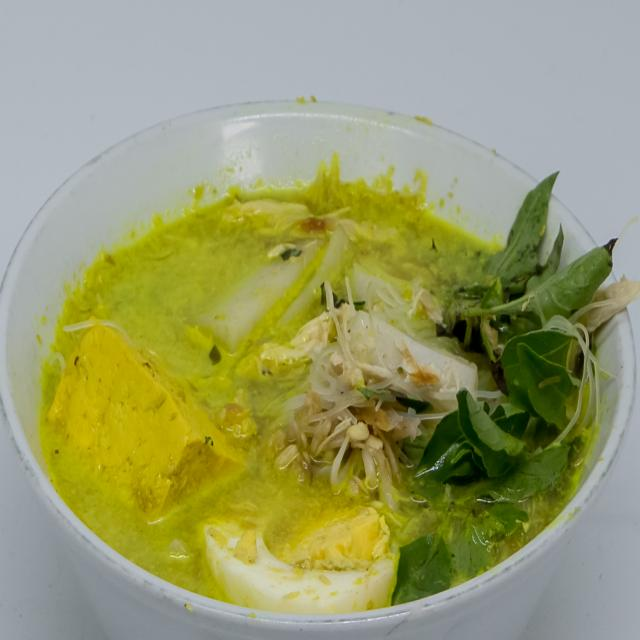Laksa-Bogor: (16, 92, 625, 612)
